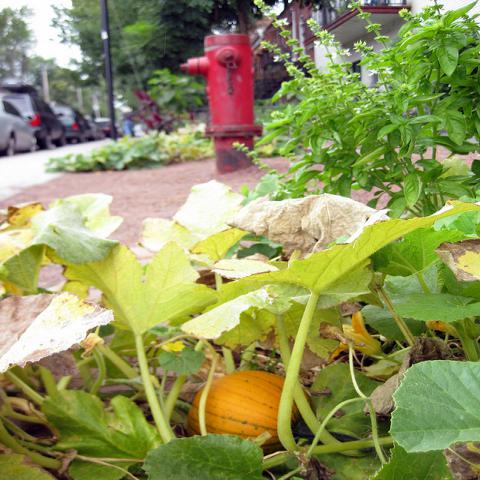car: (0, 81, 68, 149), (0, 102, 40, 156), (54, 107, 94, 143), (92, 116, 124, 138), (84, 115, 102, 139)
